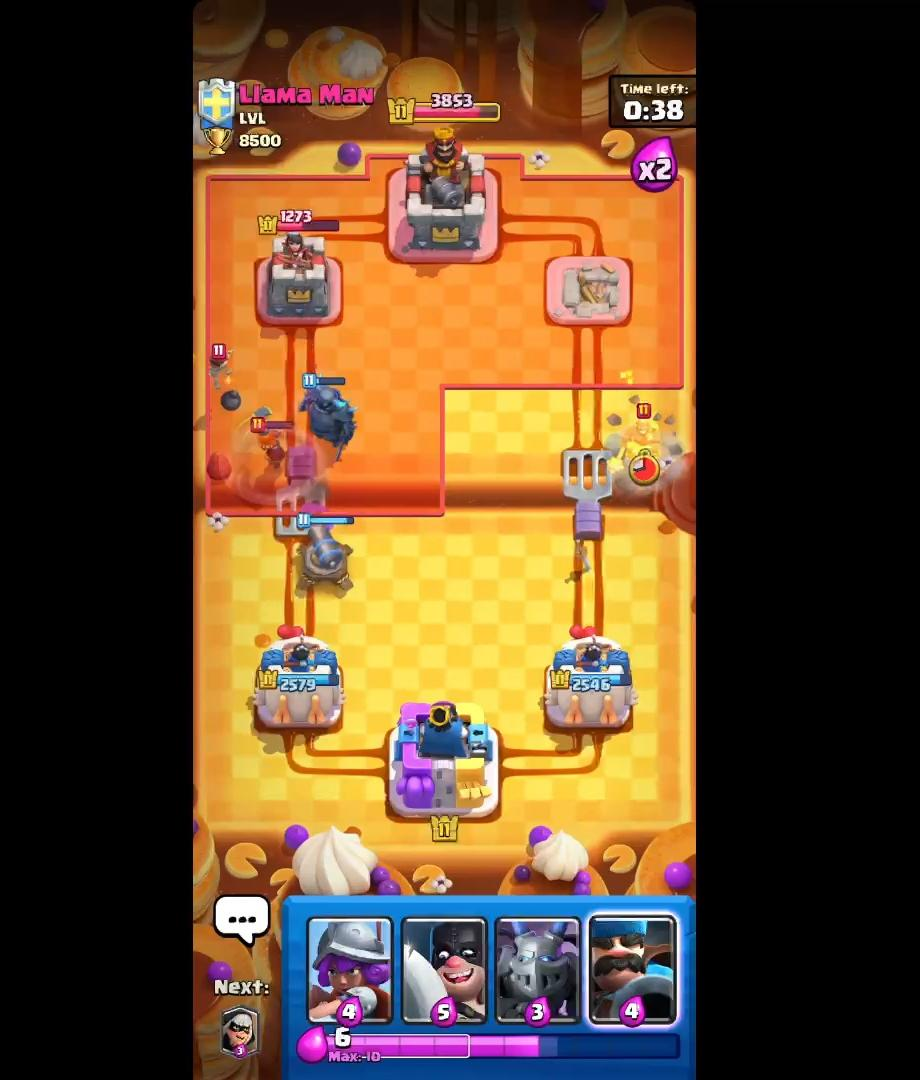Bomber: (202, 334, 253, 419)
Valkyrie: (247, 413, 296, 472)
